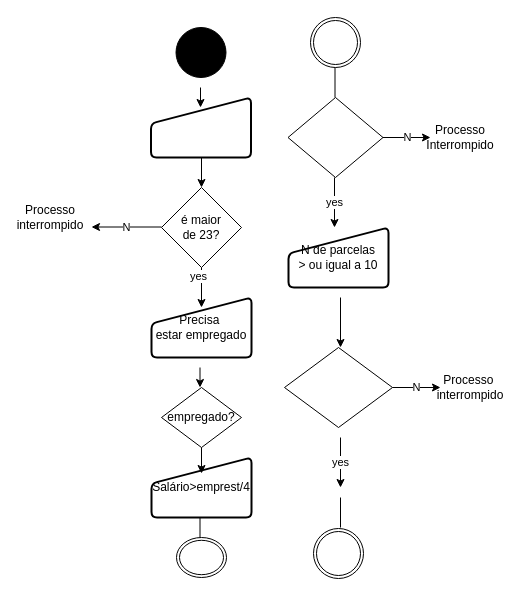
Image size: 521x604. Some labels were removed from this diagram. The shapes that lost their labels are listed below. From the top down, each one's centre as x and y in pixels, then its label:
the point at 201,127: Seja >23 anos
the point at 335,137: salário >emprest/4?
the point at 338,387: N de parcelas > ou igual a 10?
